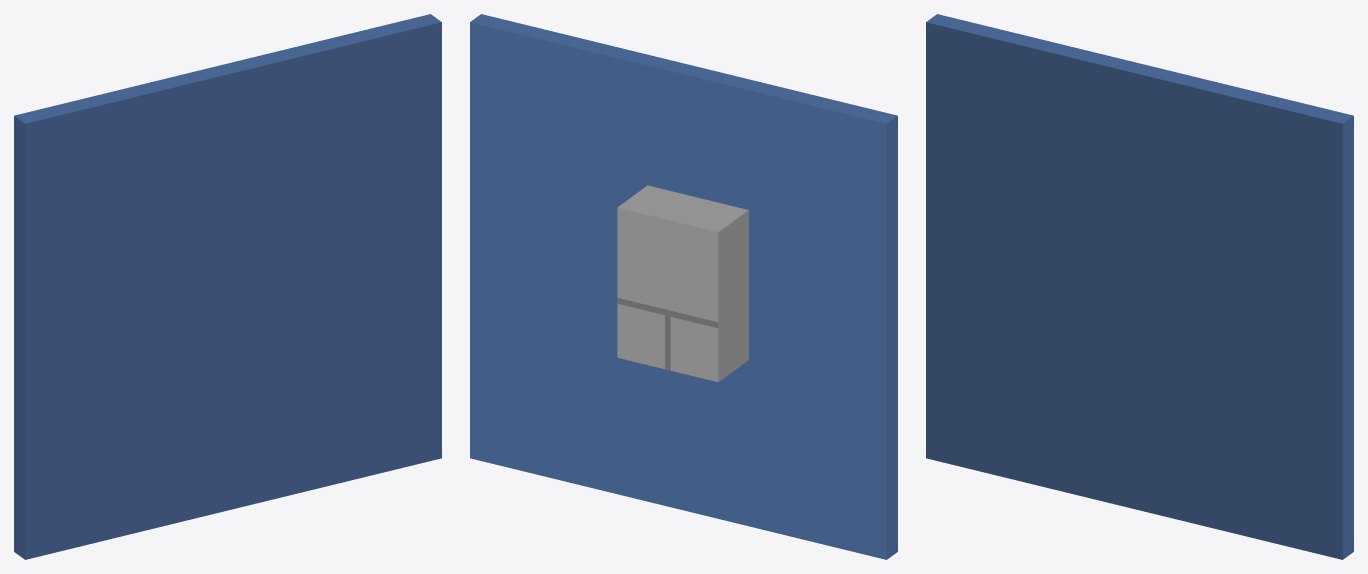
The model's file is MousePad2.glb.
The picture shows the model from 3 angles, left to right: view 1: azimuth 30°, elevation 25°; view 2: azimuth 150°, elevation 25°; view 3: azimuth 330°, elevation 25°; orthographic projection.
Visible parts, largest first — view 1: SO_Mousepad_02; view 2: SO_Mousepad_02; view 3: SO_Mousepad_02.
Boxes of the visible parts, x1,y1,x2,y2 form: SO_Mousepad_02: (14,14,441,559); SO_Mousepad_02: (470,14,897,559); SO_Mousepad_02: (926,14,1353,559).
Size of the model in its own units: 0.5978 by 0.5978 by 0.1035.
Materials: 1 (1 with a texture image).
